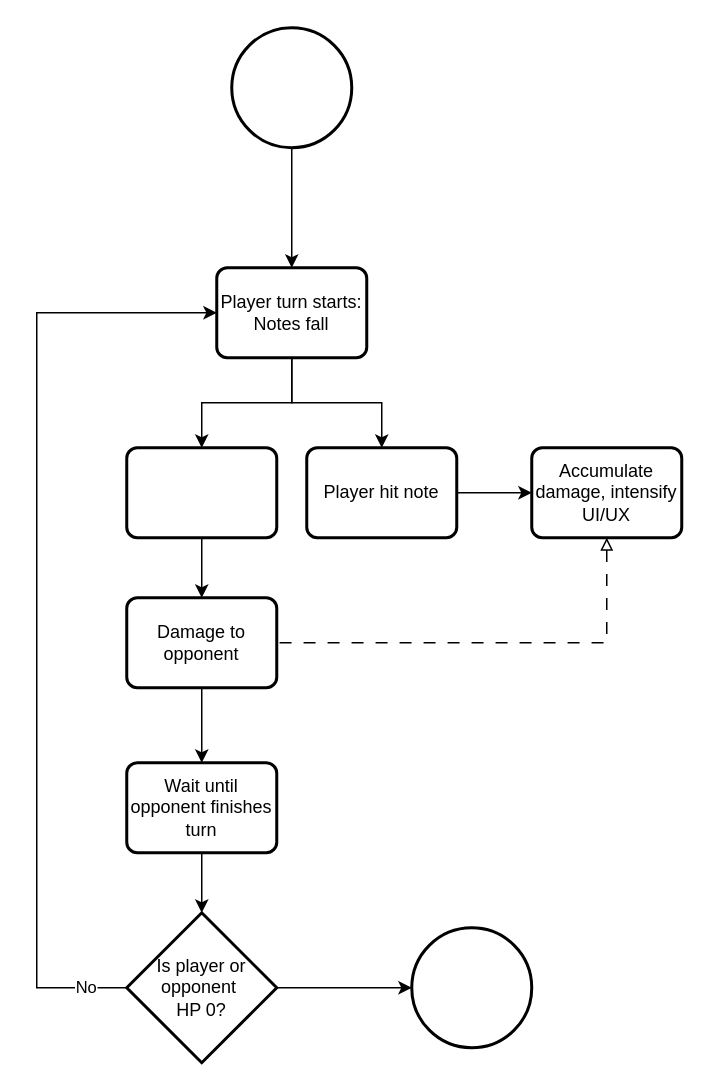
This 710x1089 diagram has some shape labels left out. The box of each missing label's shape, as (x1, y1, x2, y2) in pixels:
Battle Start: (230, 26, 352, 148)
End Battle: (410, 926, 532, 1048)
Player turn ends: (124, 446, 278, 538)
